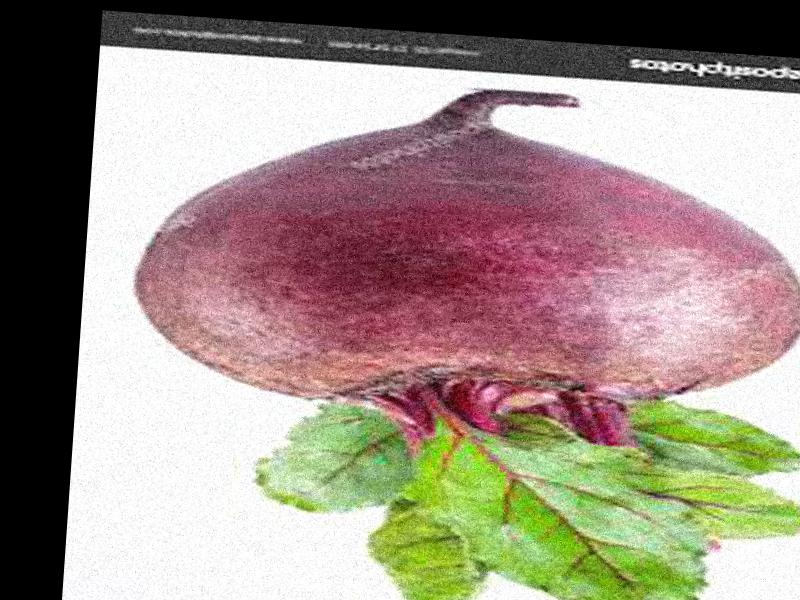Beet: (112, 69, 800, 600)
